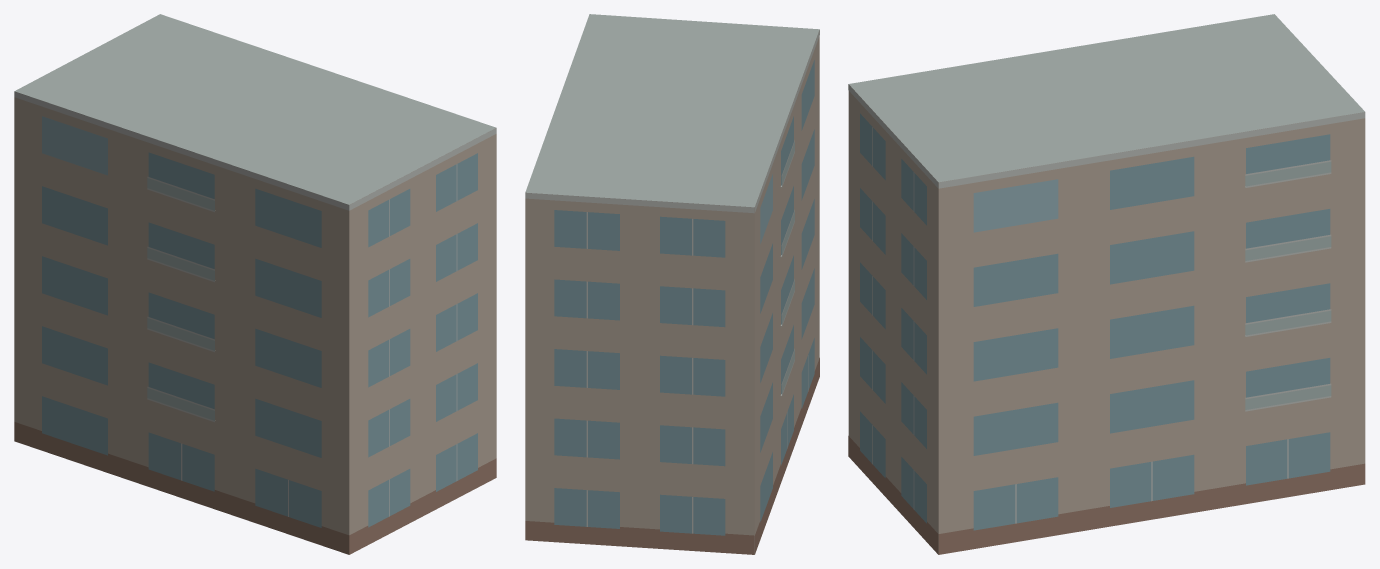
File: survey-upis-32548997.glb
3 renders of one model, left to right at view 1: azimuth 30°, elevation 25°; view 2: azimuth 150°, elevation 25°; view 3: azimuth 270°, elevation 25°, orthographic. The views are drawn at different scales.
Visible parts, largest first — view 1: survey-upis-32548997.tmp; view 2: survey-upis-32548997.tmp; view 3: survey-upis-32548997.tmp.
Boxes of the visible parts, x1,y1,x2,y2 form: survey-upis-32548997.tmp: [14, 14, 496, 554]; survey-upis-32548997.tmp: [525, 14, 819, 554]; survey-upis-32548997.tmp: [848, 14, 1365, 554].
Bounding box in the file's own units: 13.97 × 14.4 × 18.12.
